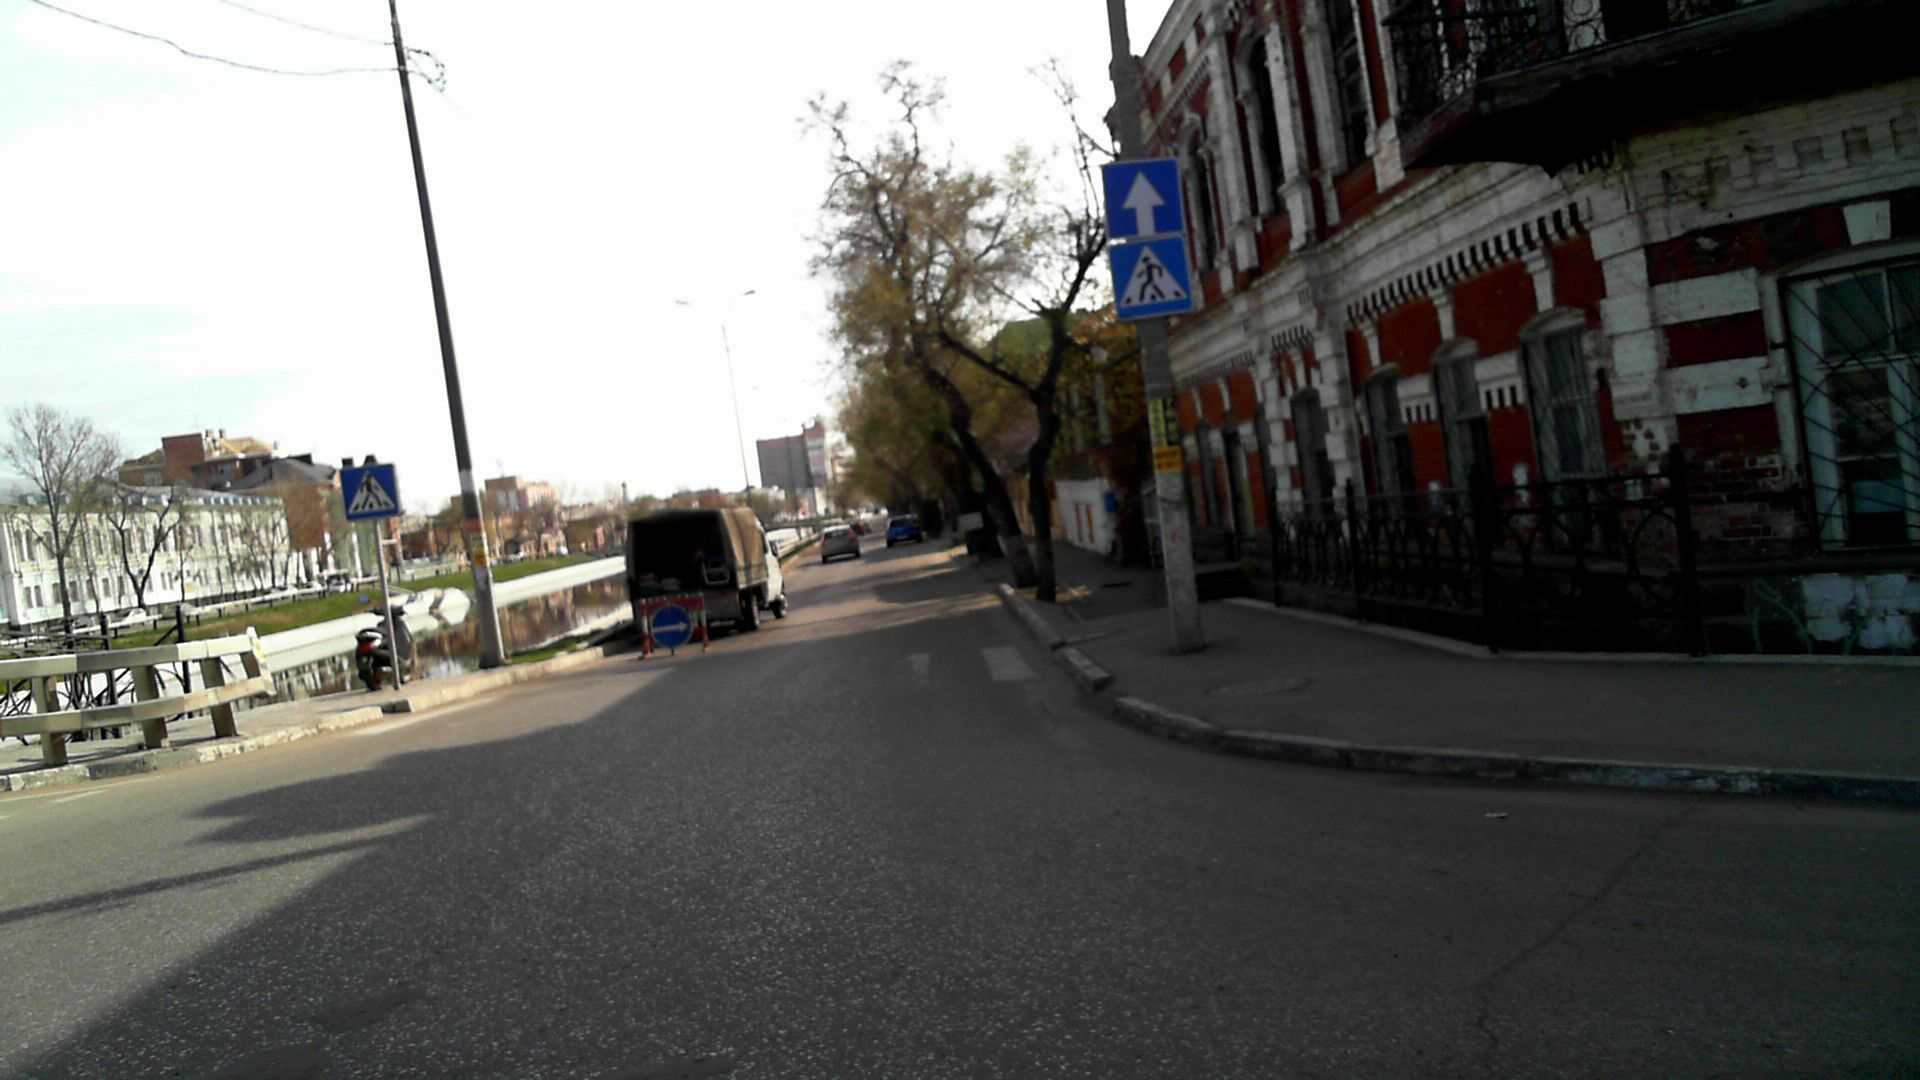Turn Right: (651, 607, 694, 647)
